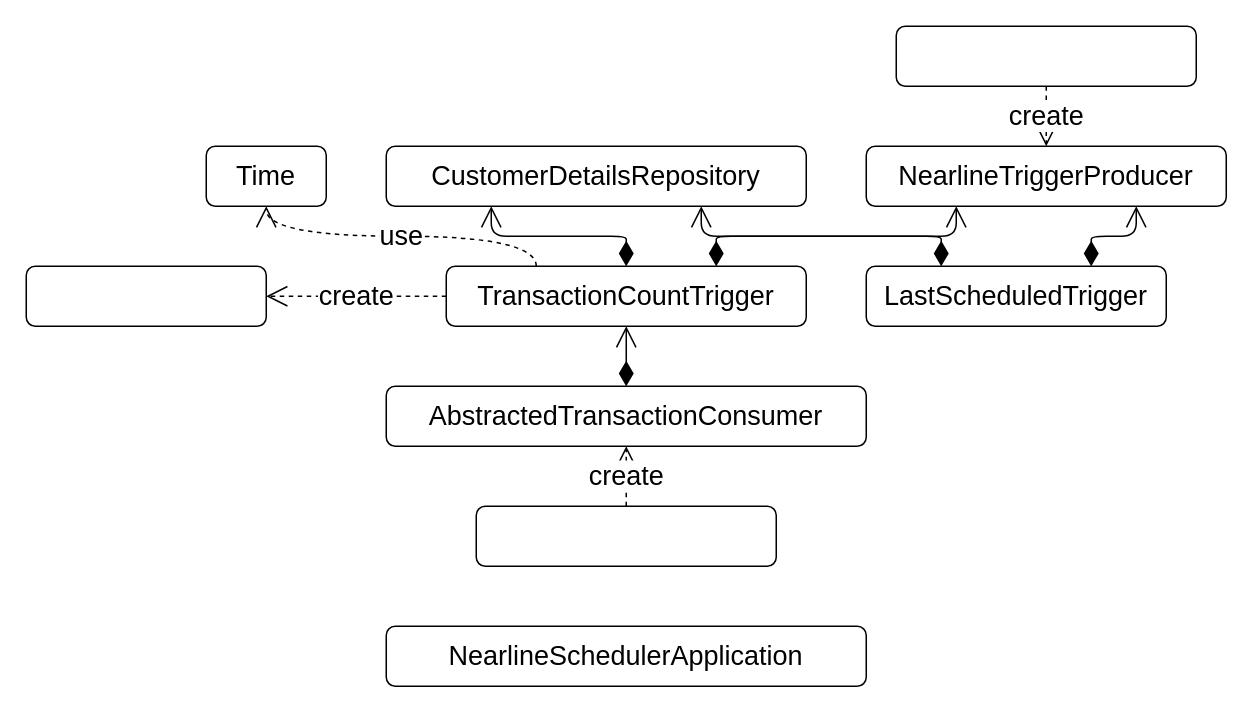
Some shapes in this 1253 by 713 pixel diagram are drawn without their labels. Here are the shapes that lost their labels. From the top down, the box of each, then its label:
(895, 25, 1196, 86): KafkaProducerConfig
(25, 265, 266, 326): CustomerDetails
(475, 505, 776, 566): KafkaConsumerConfig
